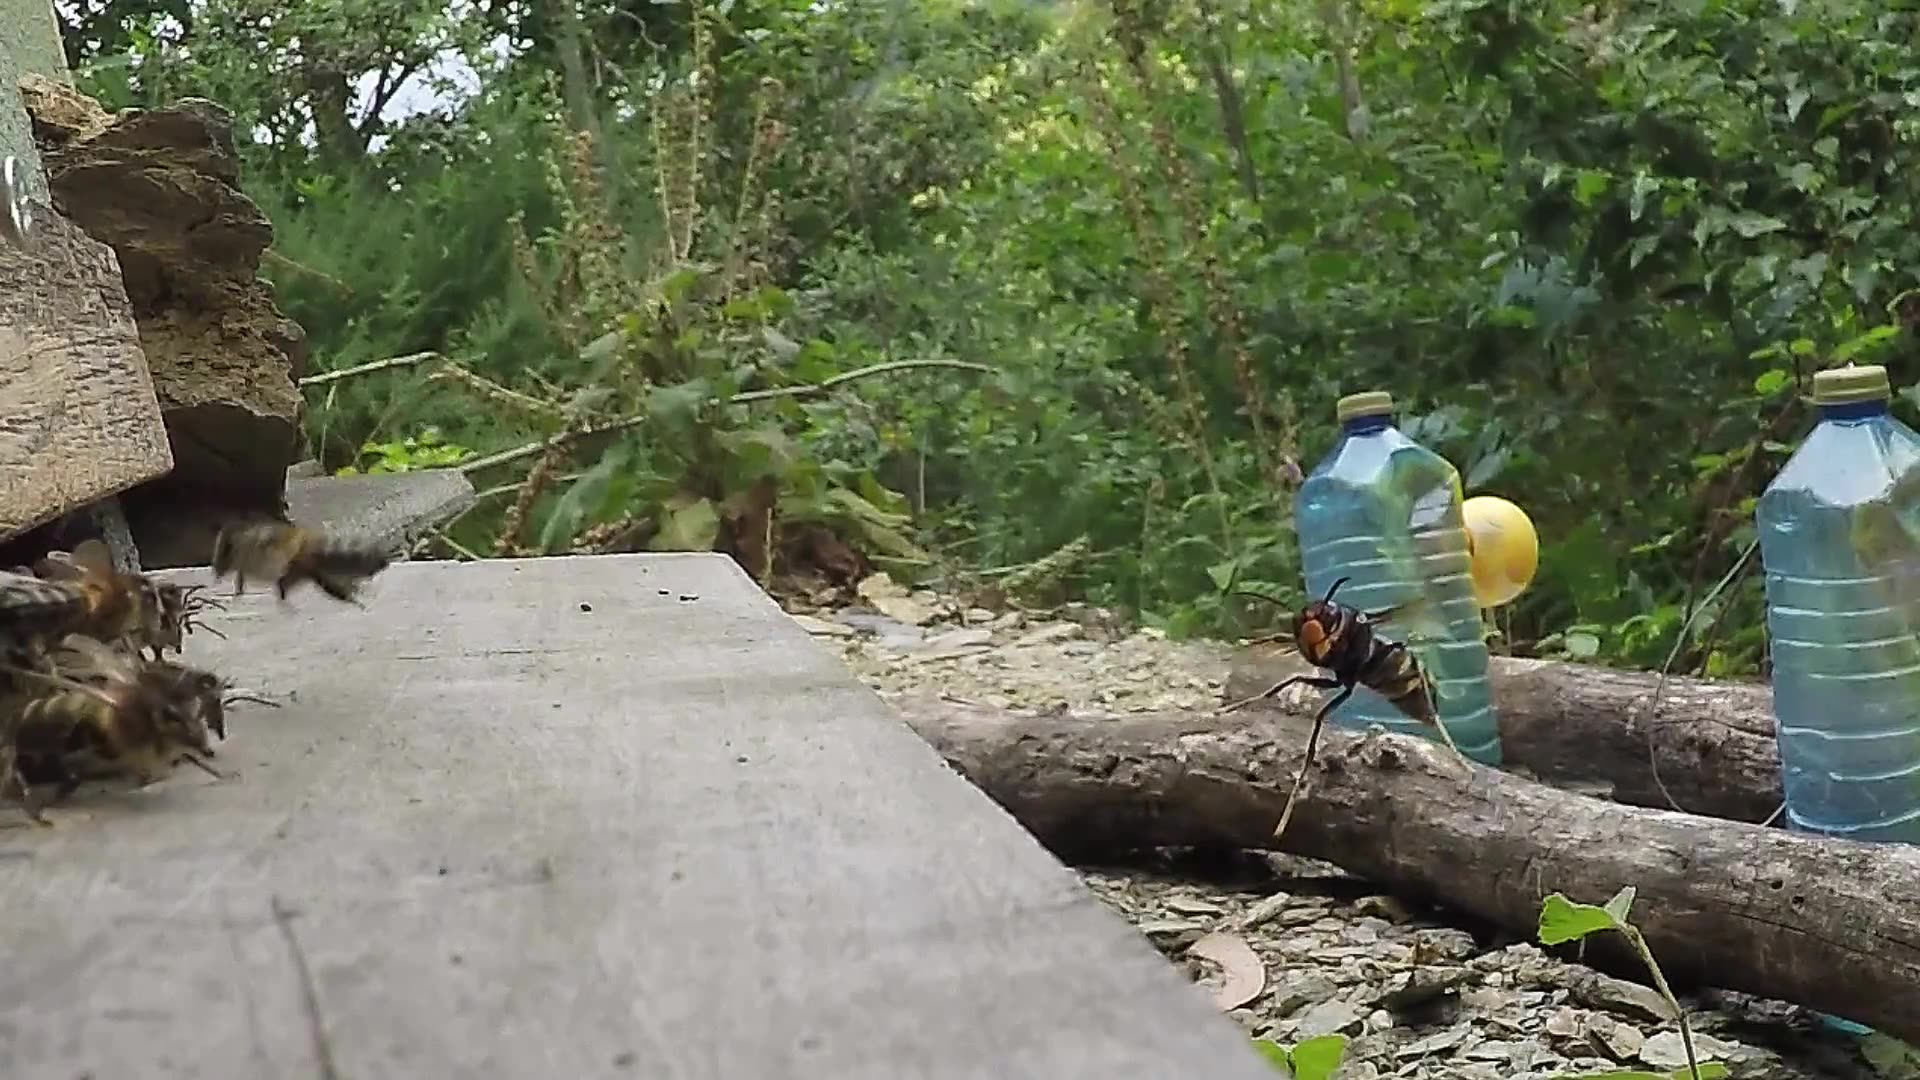bee: (1, 522, 237, 825), (199, 513, 410, 615)
hornet: (1265, 574, 1477, 774)
